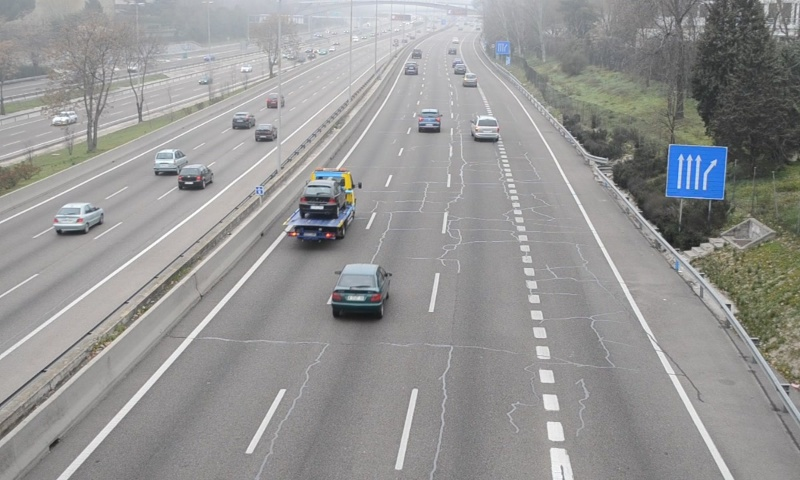car: (333, 265, 390, 310), (470, 115, 500, 142), (417, 108, 441, 130), (462, 72, 479, 87), (404, 60, 418, 76)
small-truck: (282, 168, 356, 241)
